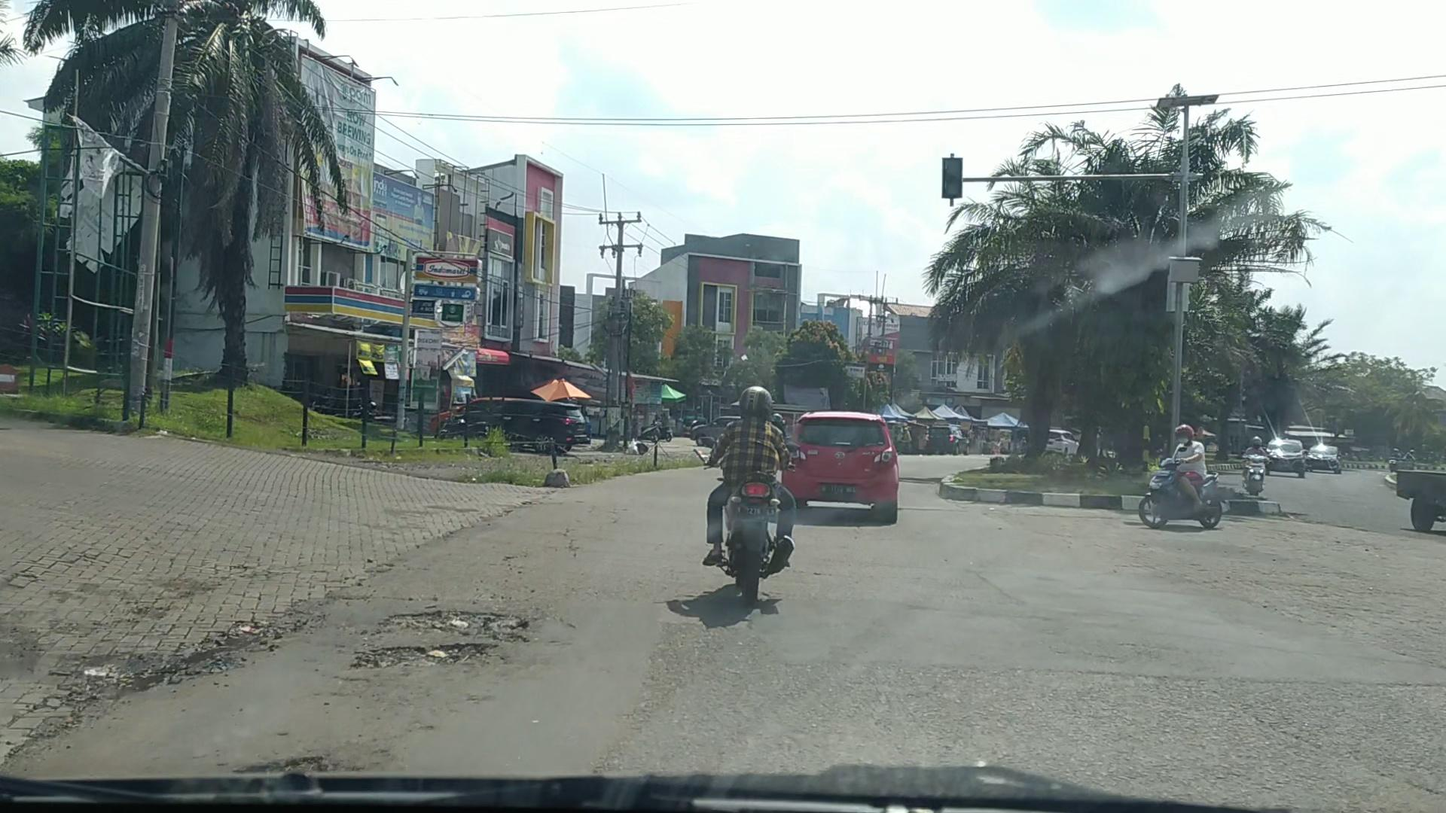pothole: (350, 640, 508, 671), (378, 614, 527, 640)
